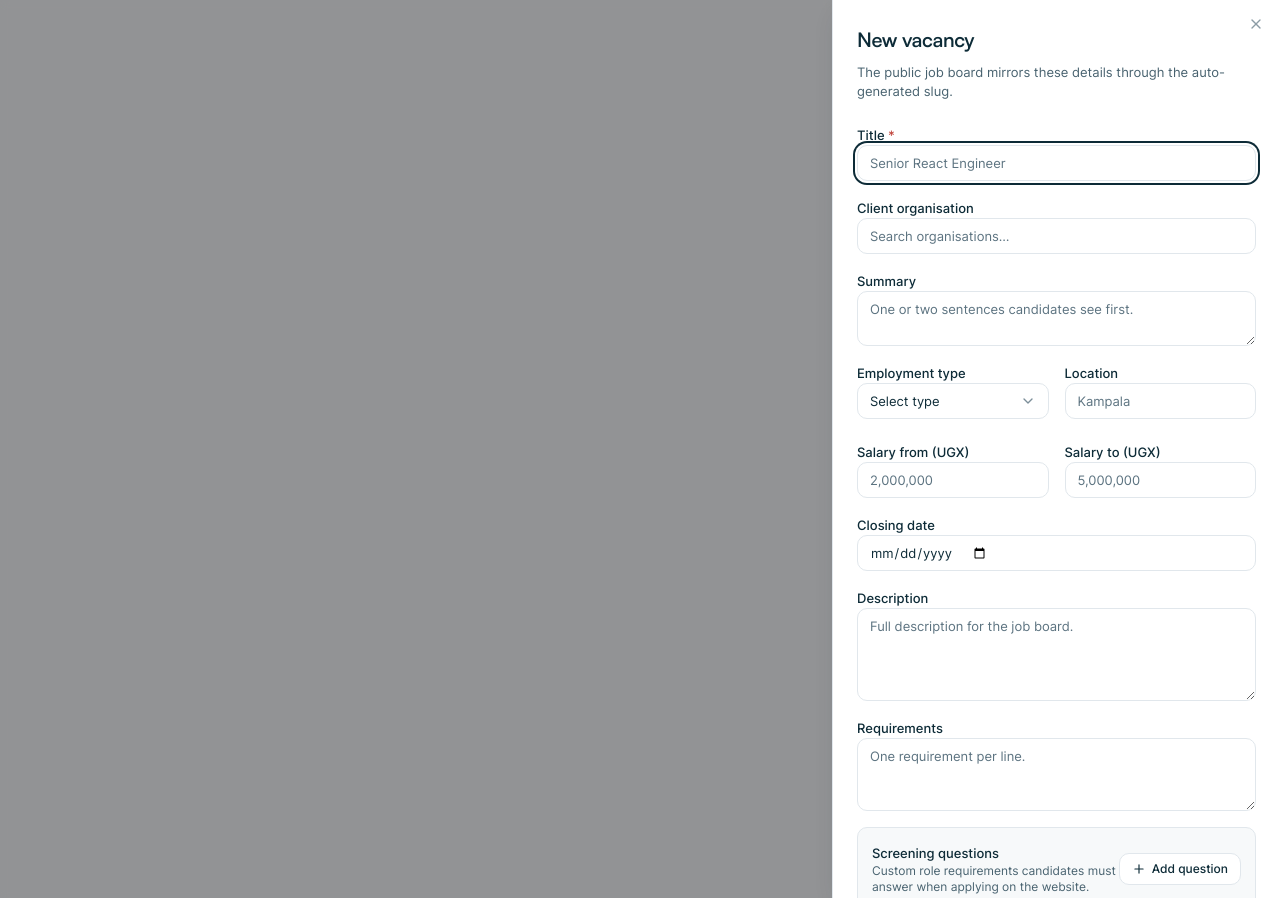
Test: slug generation and collision handling › surfaces a clear error on a slug collision (unique violation from the api)
Type "Frontend Engineer" into the field with placeholder "Senior React Engineer". click: (1056, 163)
box: [857, 145, 1256, 181]
(page scrolled)
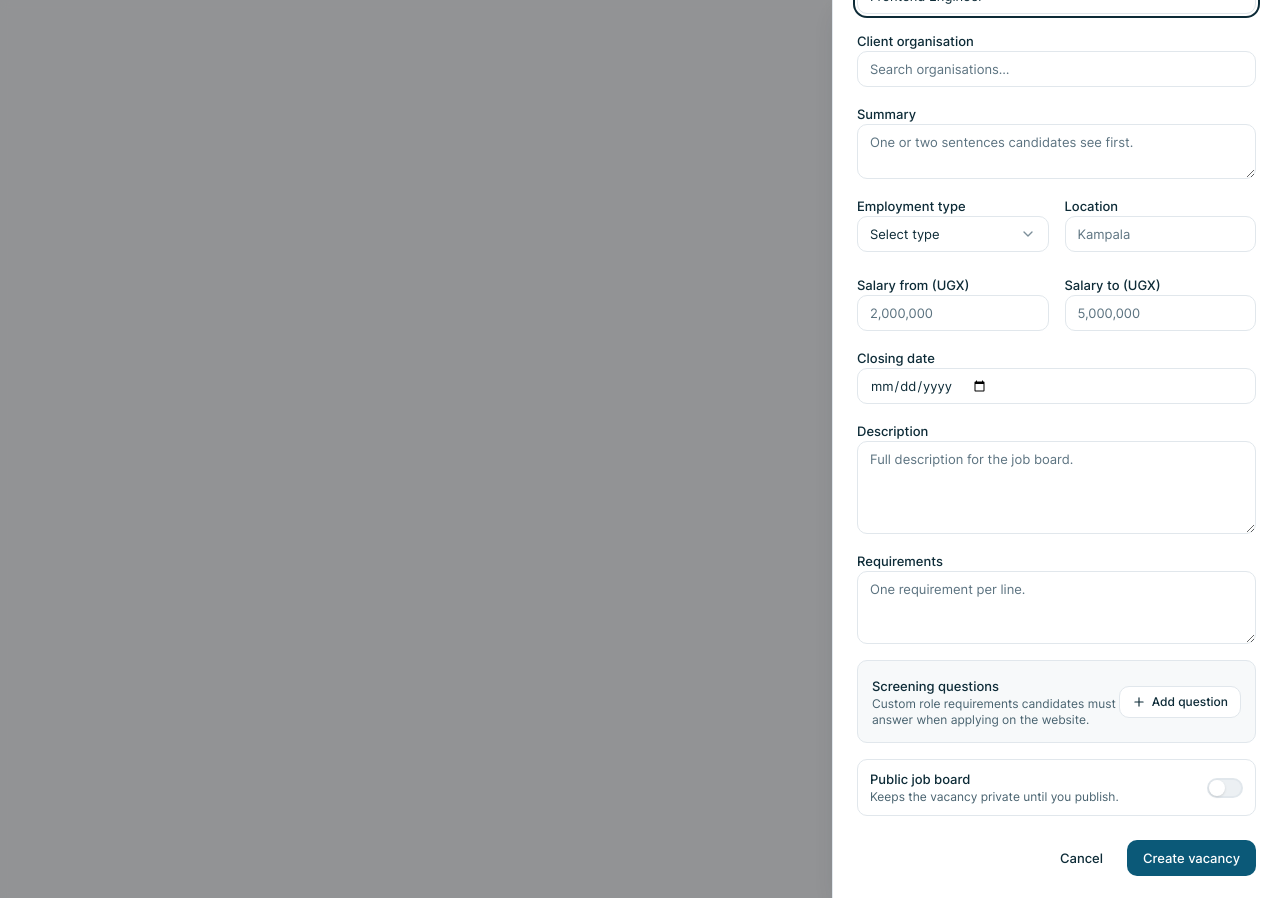
Click the button "Create vacancy". click: click(1192, 858)
box: [1127, 840, 1256, 876]
(page scrolled)
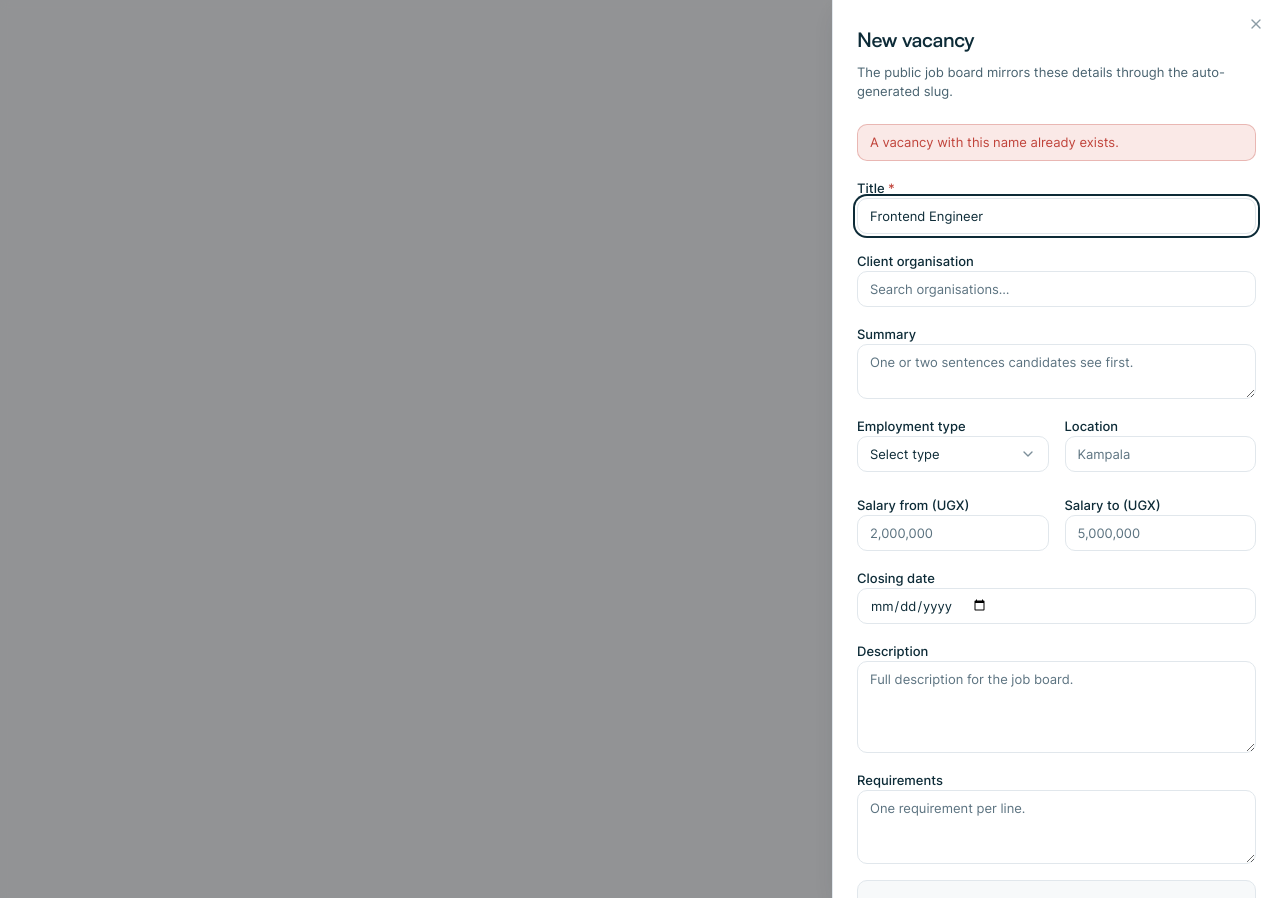
Expected: the text "A vacancy with this name already exists." is shown, [857, 124, 1256, 161]
